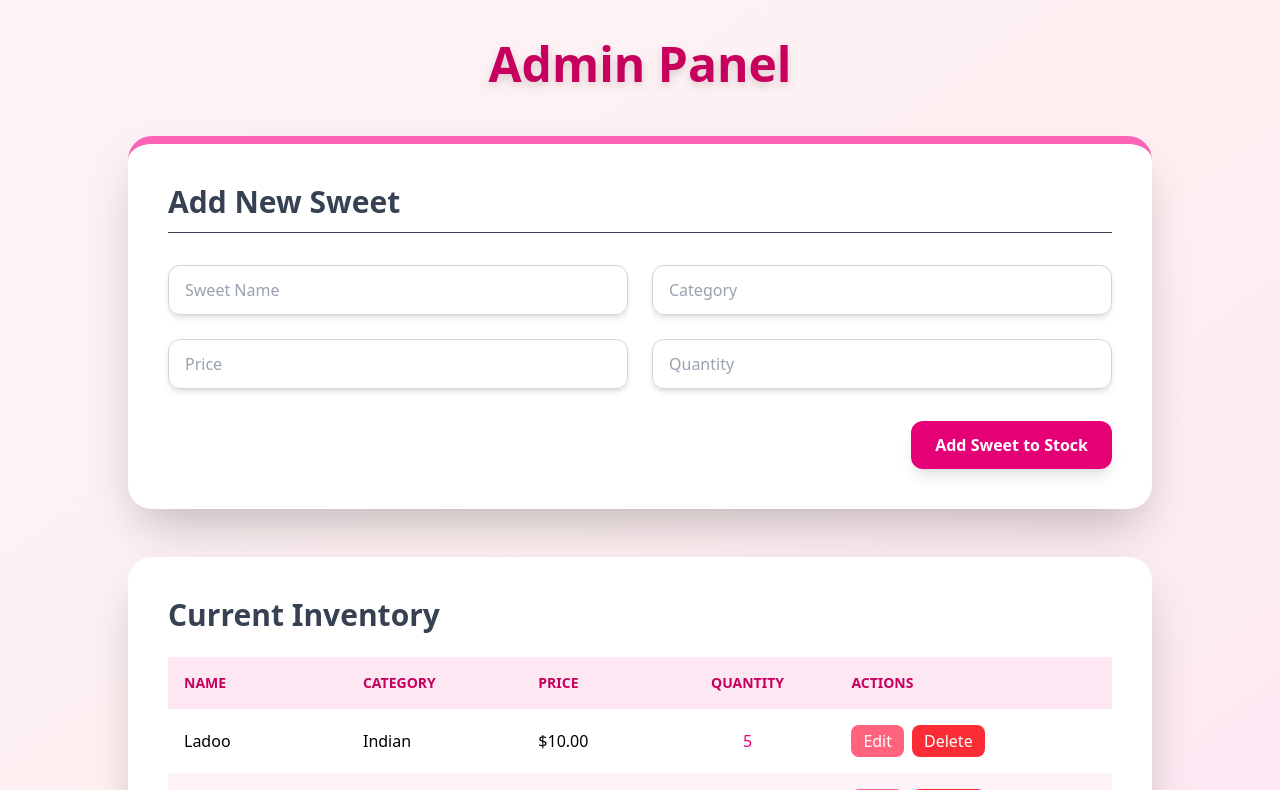
AdminSweetsPage › deletes a sweet
Click the button "Delete" in the row of "Ladoo".
click(948, 741)  # box [912,725,985,757]
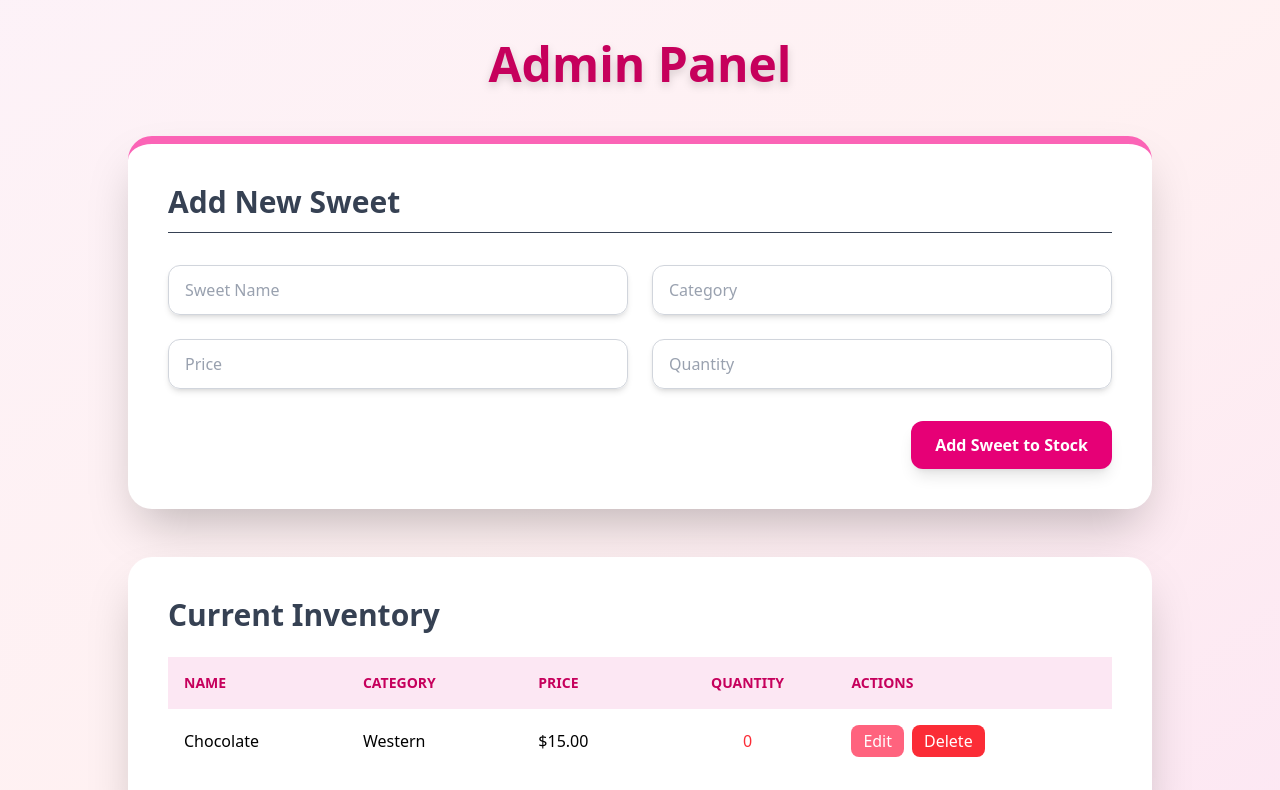
Now the text "Ladoo" is gone
